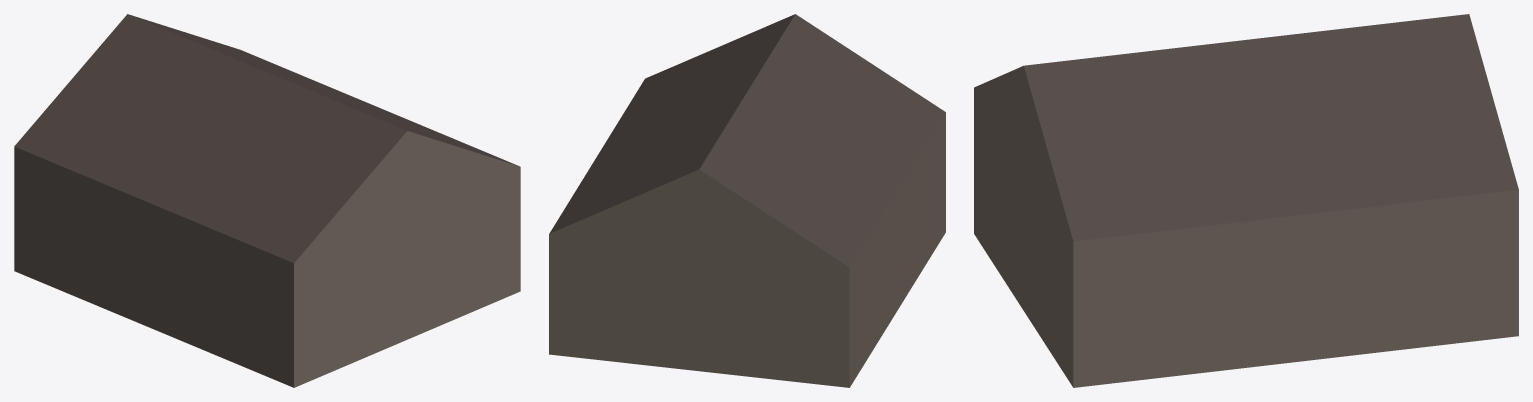
3 renders of one model, left to right at view 1: azimuth 30°, elevation 25°; view 2: azimuth 150°, elevation 25°; view 3: azimuth 270°, elevation 25°, orthographic. The views are drawn at different scales.
Parts seen in each view (by area): view 1: HP-w859457350; view 2: HP-w859457350; view 3: HP-w859457350.
Part boxes in pixels (x1,y1,x2,y2): HP-w859457350: [14, 14, 520, 387]; HP-w859457350: [549, 14, 945, 387]; HP-w859457350: [974, 14, 1518, 387].
Bounding box in the file's own units: 18.09 × 10.05 × 20.25.
